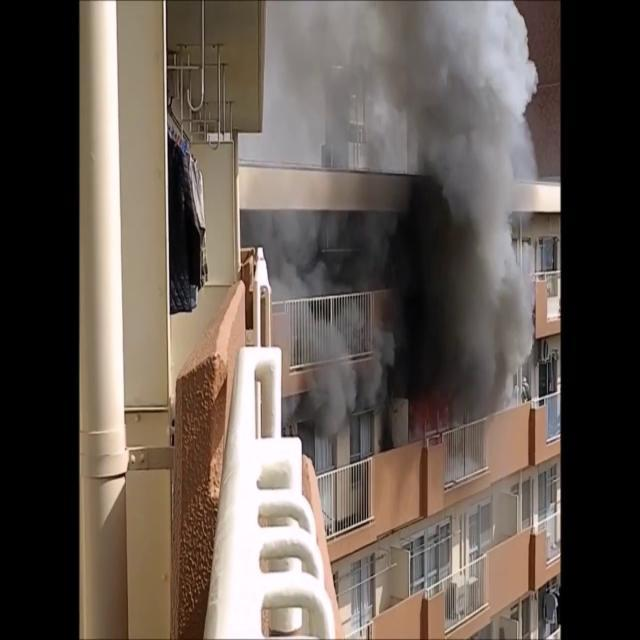Smoke: (252, 0, 534, 453)
